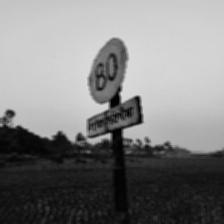Speed-limit: (86, 36, 142, 137)
